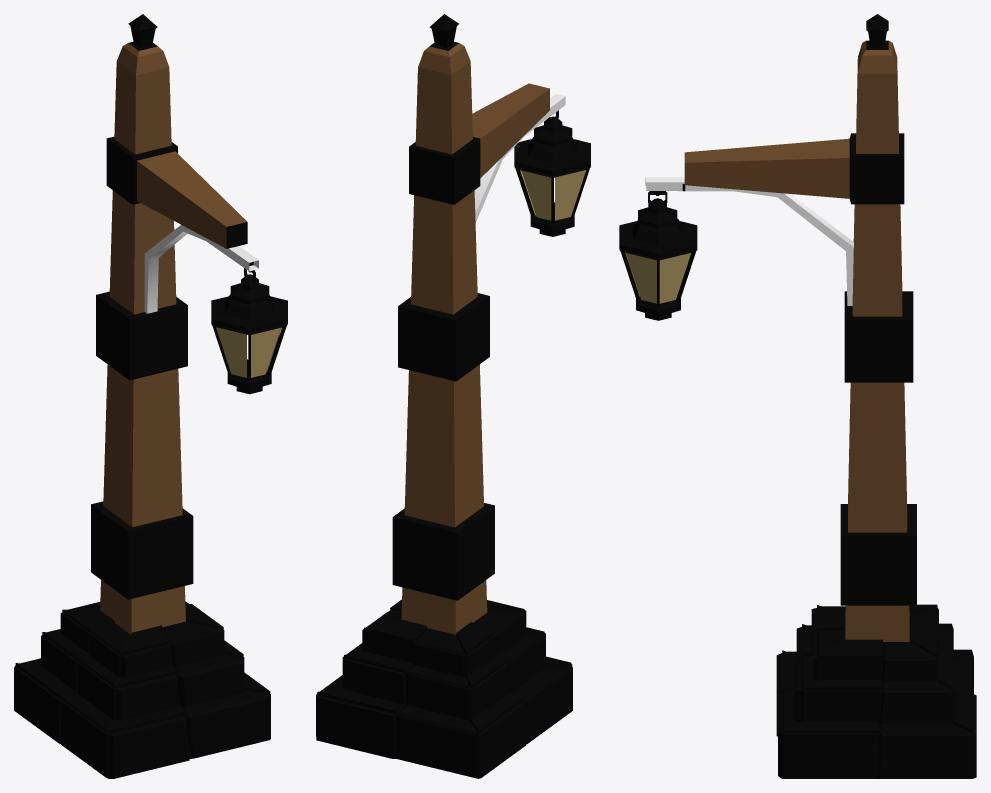
The model's file is 1StreetLamb.fbx.
The picture shows the model from 3 angles, left to right: view 1: azimuth 30°, elevation 25°; view 2: azimuth 150°, elevation 25°; view 3: azimuth 270°, elevation 25°; orthographic projection.
Visible parts, largest first — view 1: StreetLamb, StreetLamb.001, StreetWallLantern1; view 2: StreetLamb, StreetLamb.001, StreetWallLantern1; view 3: StreetLamb, StreetLamb.001, StreetWallLantern1.
Boxes of the visible parts, x1,y1,x2,y2 form: StreetLamb: (14,14,287,778); StreetLamb.001: (100,43,247,634); StreetWallLantern1: (216,327,281,377); StreetLamb: (316,14,590,778); StreetLamb.001: (401,43,549,635); StreetWallLantern1: (520,170,586,220); StreetLamb: (619,14,976,778); StreetLamb.001: (684,41,909,642); StreetWallLantern1: (625,253,691,303).
Bounding box in the file's own units: 2.05 × 8.4 × 3.75.
